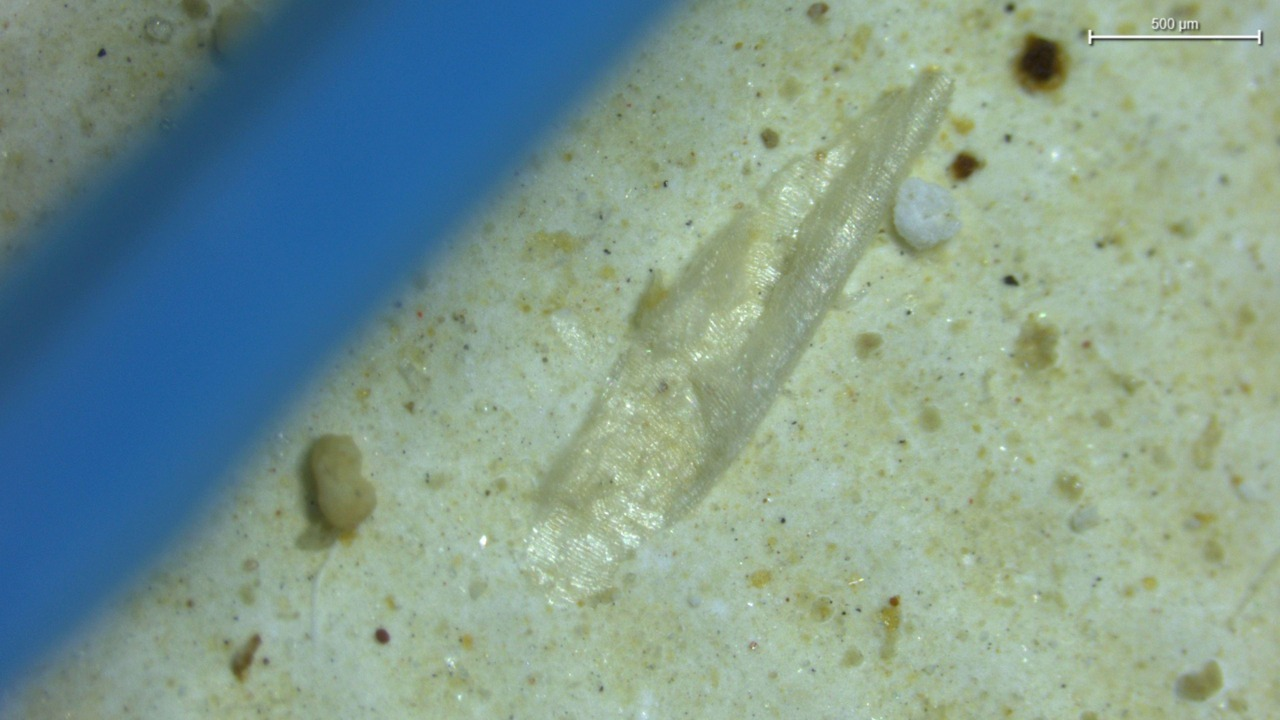microplastic_fragment: (527, 73, 952, 601), (309, 435, 376, 531), (894, 177, 961, 249)
